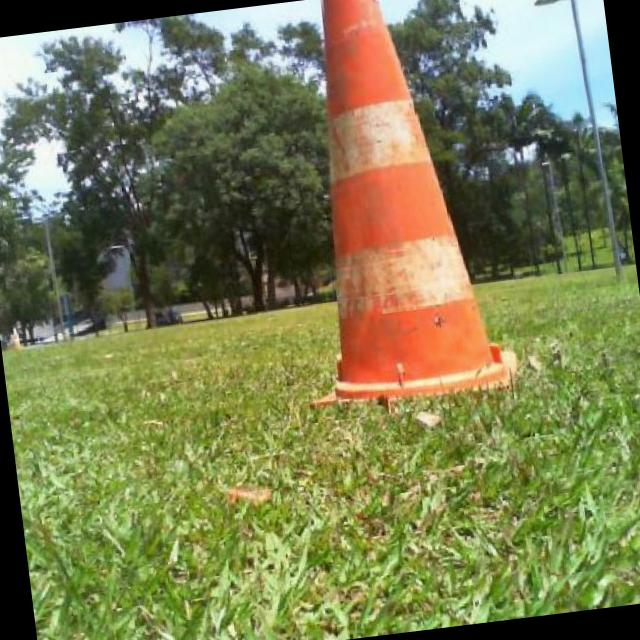Cone: (261, 0, 517, 409)
